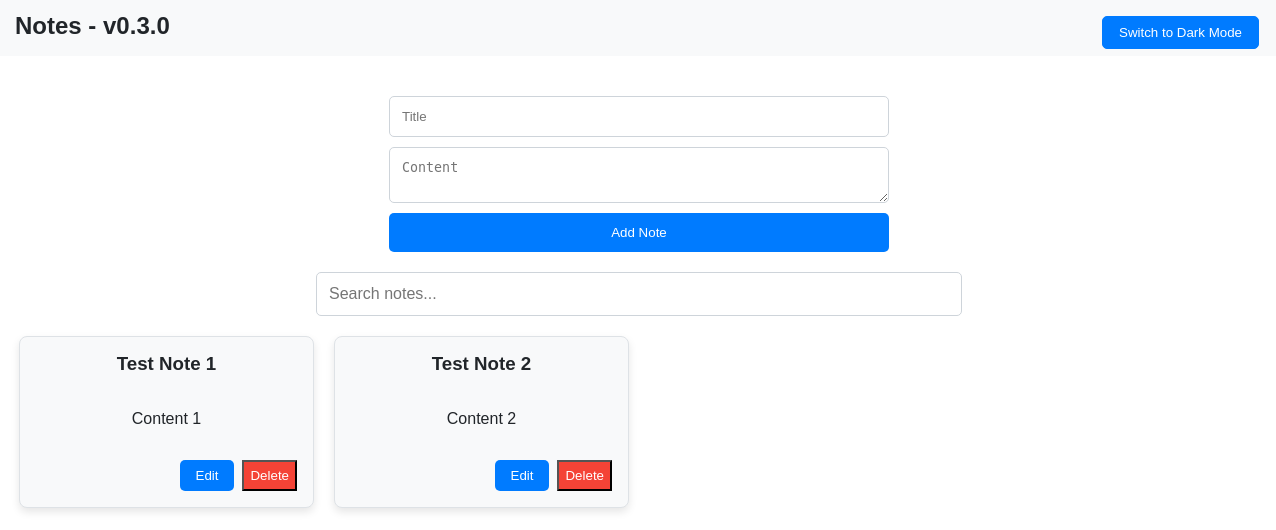
Scenario: App component › filters notes and restores list when search is cleared
Expected: the heading "Test Note 1" is shown, left=117, top=353, right=216, bottom=374
Type "Note 2" into the field with placeholder "Search notes..." at coordinates (639, 294), box left=316, top=272, right=962, bottom=316
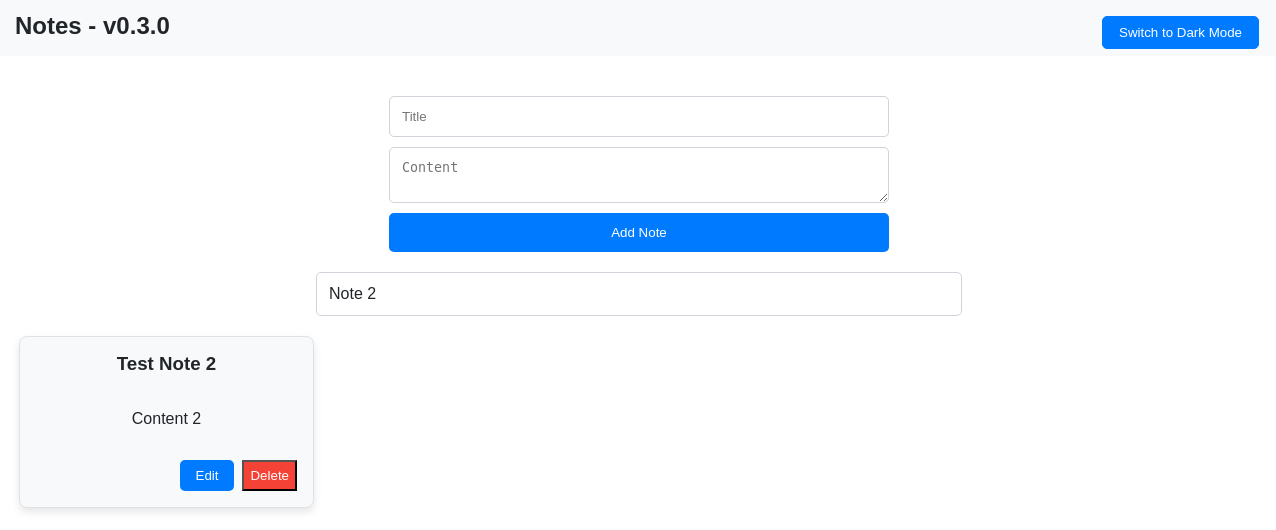
Expected: the heading "Test Note 2" is shown, left=117, top=353, right=216, bottom=374
Result: the heading "Test Note 1" is gone
# Clear the search
Clear the field with placeholder "Search notes..." at coordinates (639, 294), box left=316, top=272, right=962, bottom=316
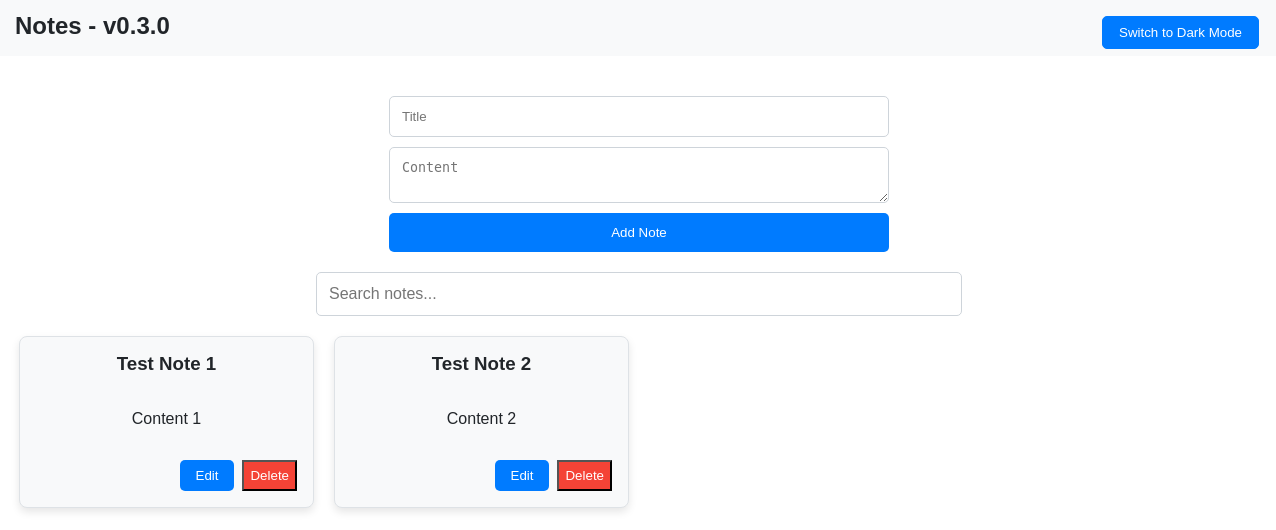
Expected: the heading "Test Note 2" is shown, left=432, top=353, right=531, bottom=374
Result: the heading "Test Note 1" is shown at left=117, top=353, right=216, bottom=374
